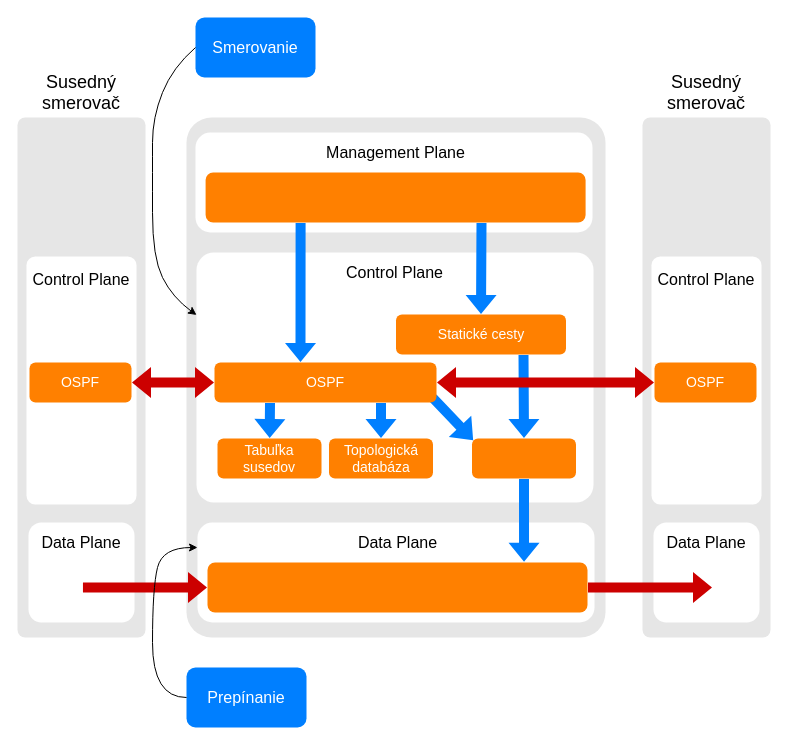
Image size: 787x744. Some labels were removed from this diagram. Here are the shapes that lost their labels. From the top down, the box of each, then its label:
(205, 172, 585, 222): Konfigurácia
(186, 117, 605, 637): Smerovač
(472, 438, 576, 478): Smerovacia tabuľka
(207, 562, 587, 612): Prepínacia tabuľka
